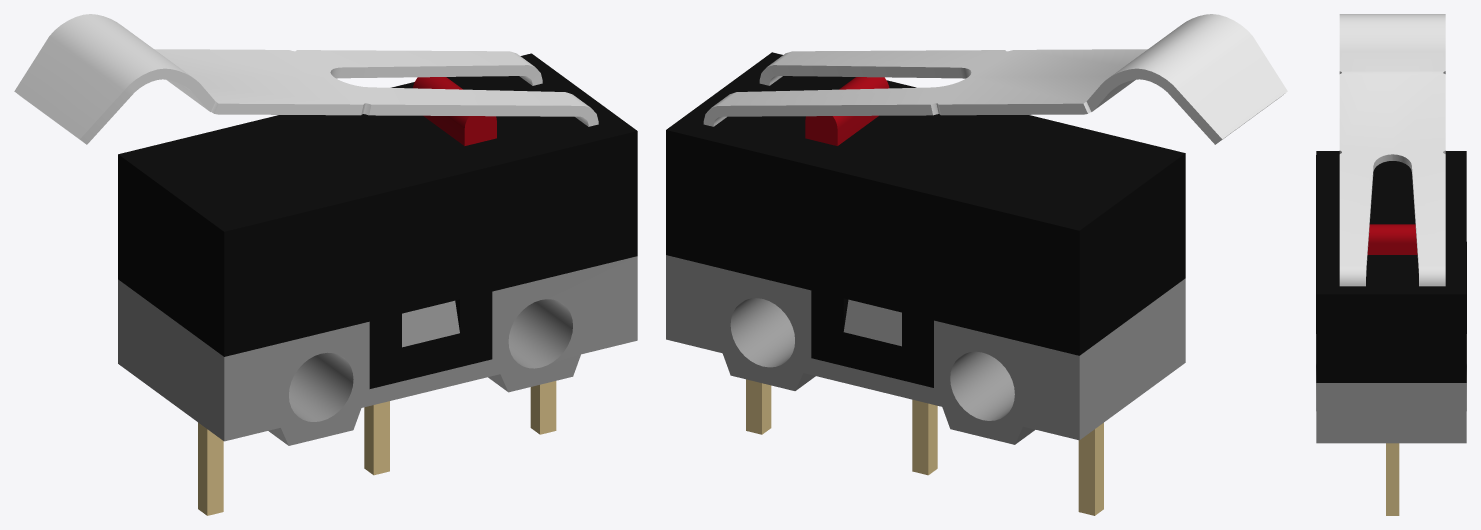
3 renders of one model, left to right at view 1: azimuth 30°, elevation 25°; view 2: azimuth 150°, elevation 25°; view 3: azimuth 270°, elevation 25°, orthographic. The views are drawn at different scales.
Parts seen in each view (by area): view 1: SWICH.001; view 2: SWICH.001; view 3: SWICH.001.
Boxes of the visible parts, left/top/right/bottom form: SWICH.001: left=14, top=14, right=637, bottom=515; SWICH.001: left=666, top=14, right=1287, bottom=515; SWICH.001: left=1316, top=14, right=1466, bottom=515.
Bounding box in the file's own units: 0.0249 × 0.0218 × 0.00854.
